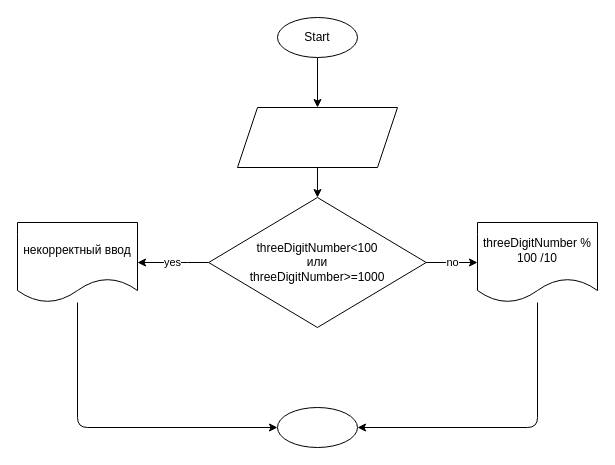
This 615x465 diagram has some shape labels left out. Here are the shapes that lost their labels. From the top down, the box of each, then its label:
(236, 106, 398, 168): threeDigitNumber
(276, 406, 358, 448): finish
